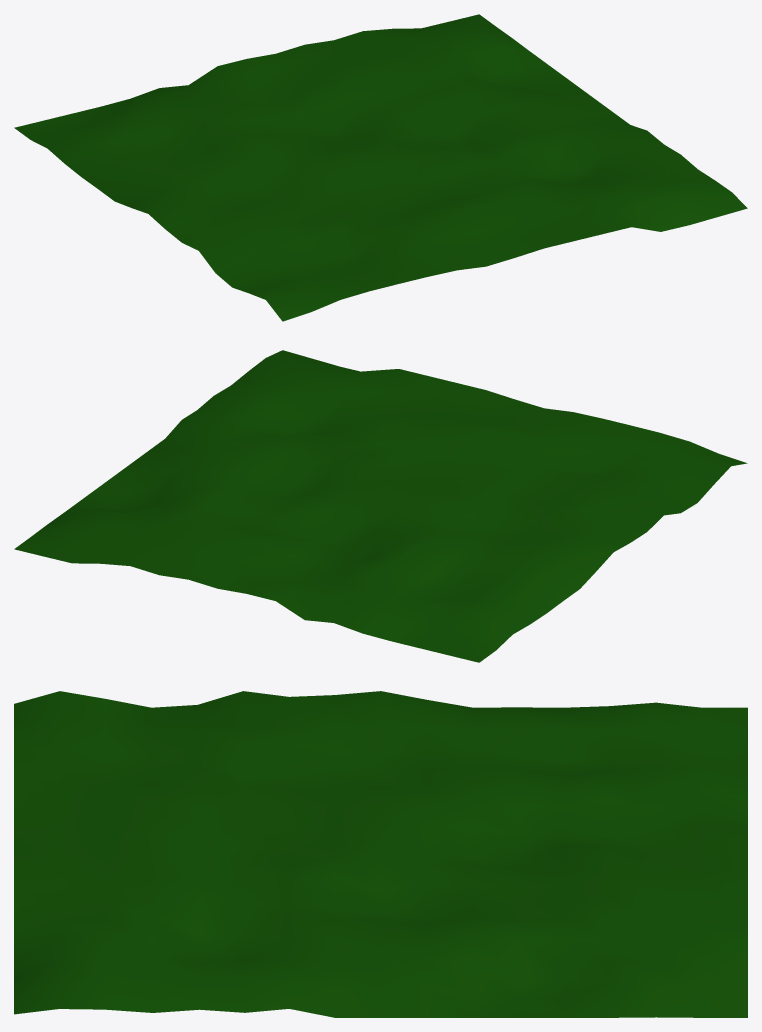
The model's file is grass.obj.
3 renders of one model, top to bottom at view 1: azimuth 30°, elevation 25°; view 2: azimuth 150°, elevation 25°; view 3: azimuth 270°, elevation 25°, orthographic. The views are drawn at different scales.
Visible parts, largest first — view 1: Plane; view 2: Plane; view 3: Plane.
Part boxes in pixels (left/top/right/bottom): Plane: left=14, top=14, right=747, bottom=321; Plane: left=14, top=350, right=747, bottom=662; Plane: left=14, top=691, right=747, bottom=1017.
Size of the model in its own units: 2 by 0.0882 by 2.
